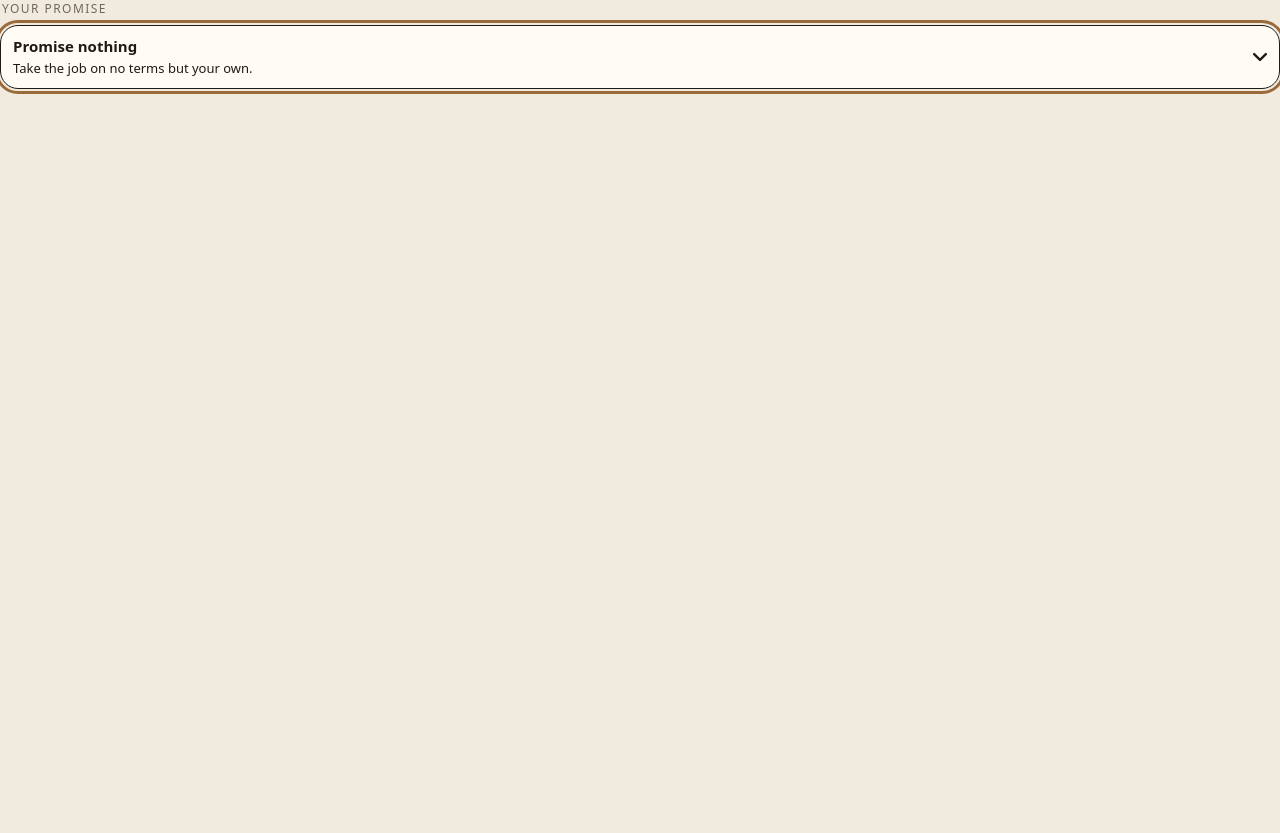
it: your promise › closes on a choice, shows it with its cost, and gives the focus back
Click the button with class "mandate-current" at x=75, y=46, box 0,25 -> 1279,89
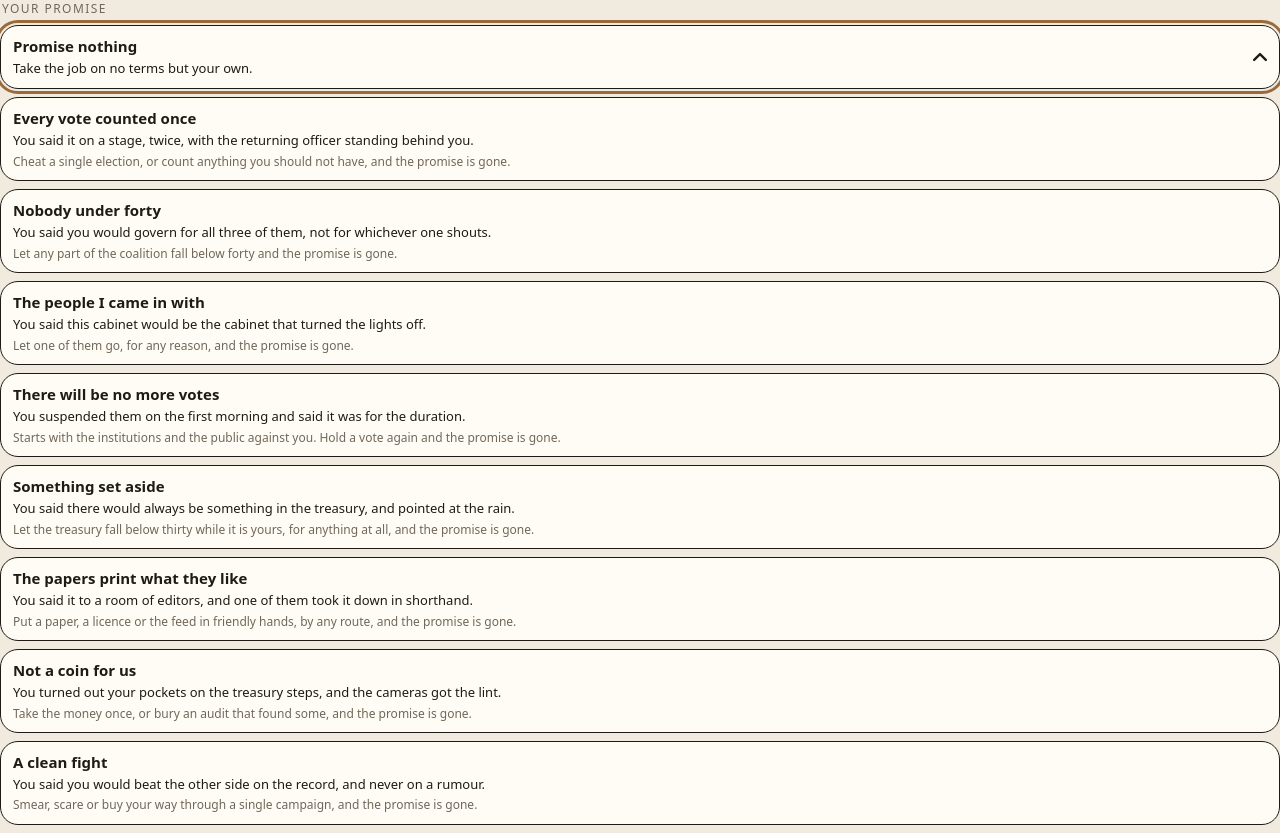
Click the button "Nobody under forty" at x=87, y=210, box 0,189 -> 1279,273
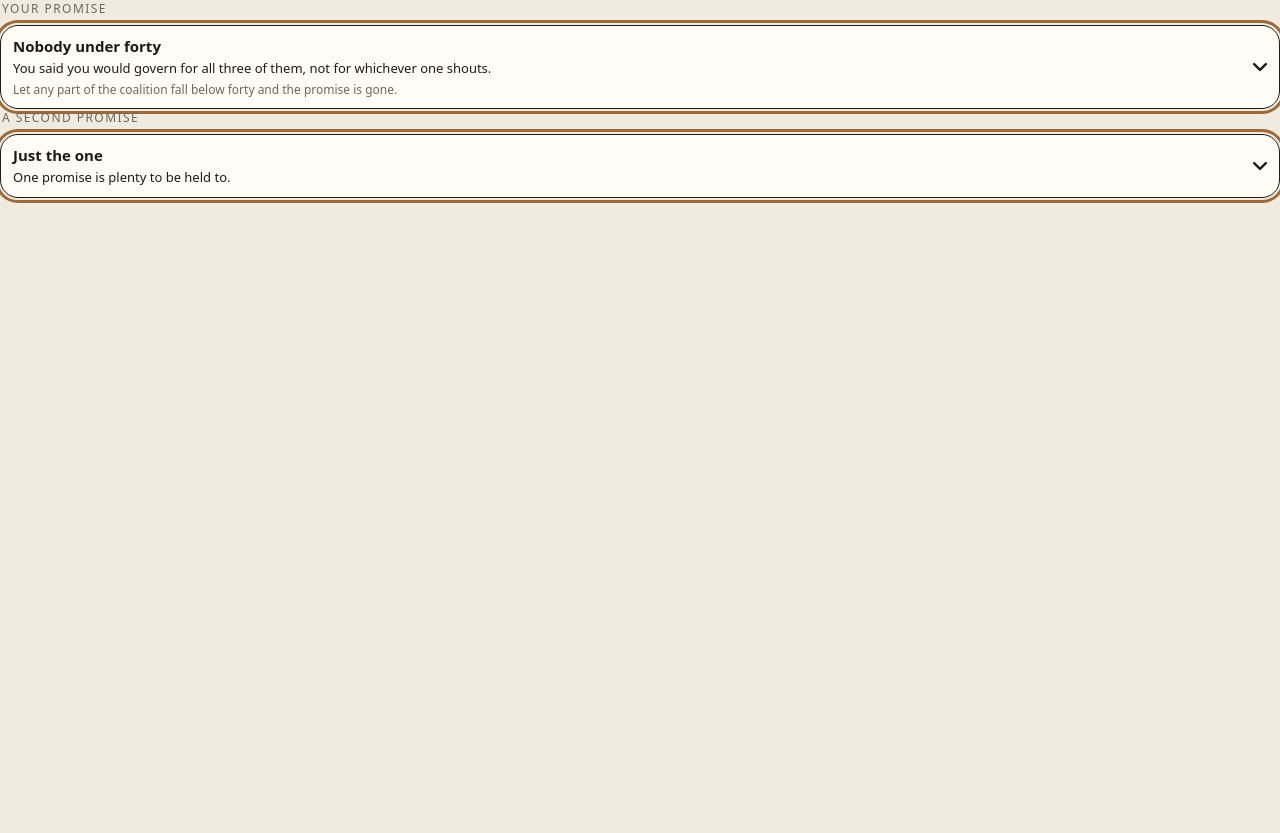
Now the button with class "mandate-current" is collapsed
Now the button with class "mandate-current" shows "Nobody under forty"
Now the button with class "mandate-current" shows "Let any part of the coalition fall below forty and the promise is gone."
And back to none, which is offered once something else is chosen.
Click the button with class "mandate-current" that starts with "Nobody under forty" at x=87, y=46, box 0,25 -> 1279,109
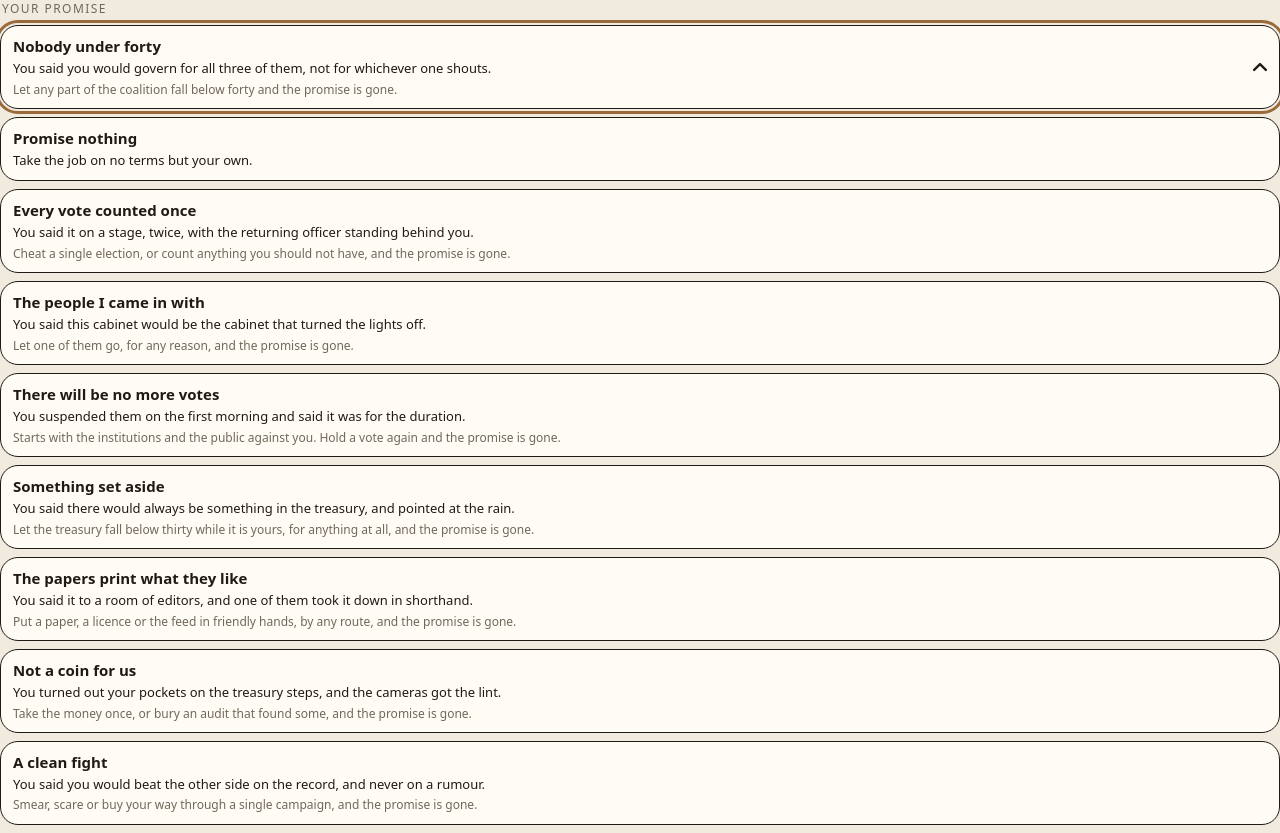
Click the button "Promise nothing Take the job on no terms but your own." at x=75, y=138, box 0,117 -> 1279,181
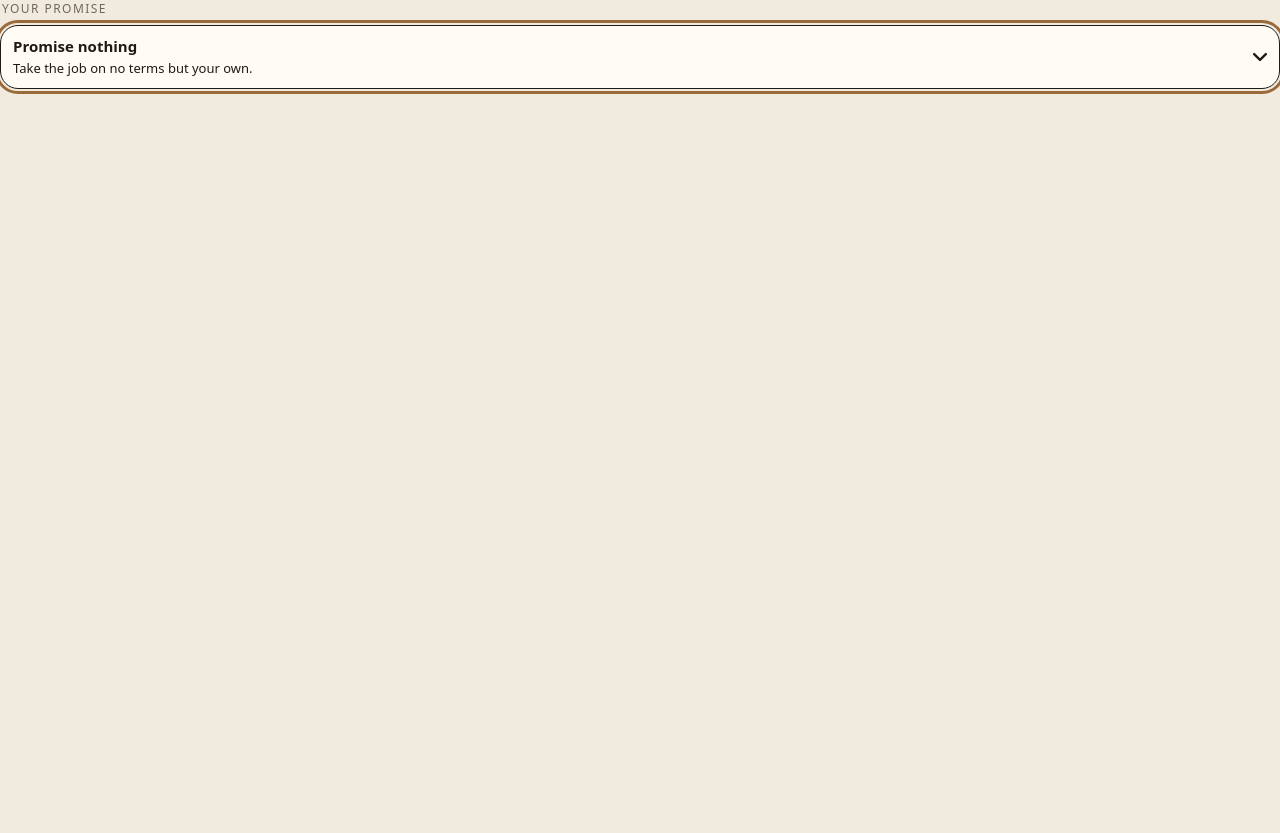
Now the button with class "mandate-current" shows "Promise nothing", box 0,25 -> 1279,89
